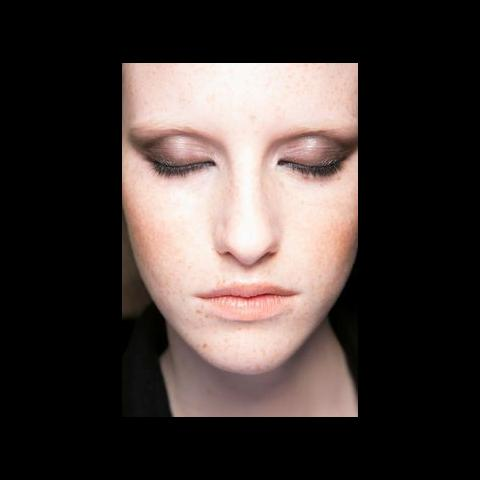closed: (130, 114, 354, 198)
